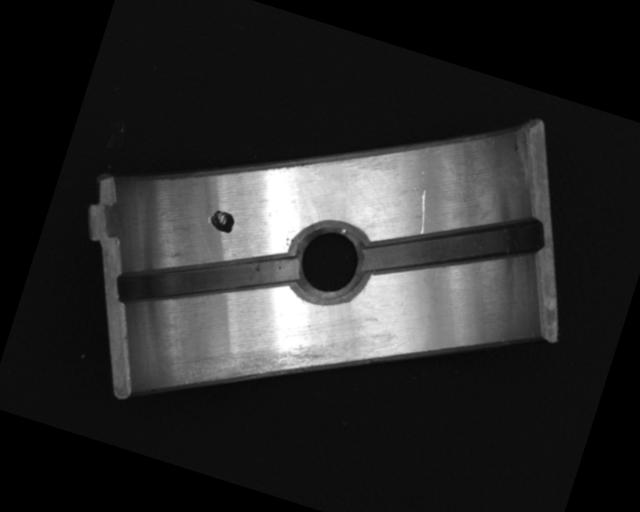blot: (204, 206, 237, 235)
gap: (360, 173, 545, 319), (113, 208, 302, 348)
hole: (280, 211, 377, 314)
nick: (409, 188, 436, 235)
scratch: (184, 310, 350, 428)
